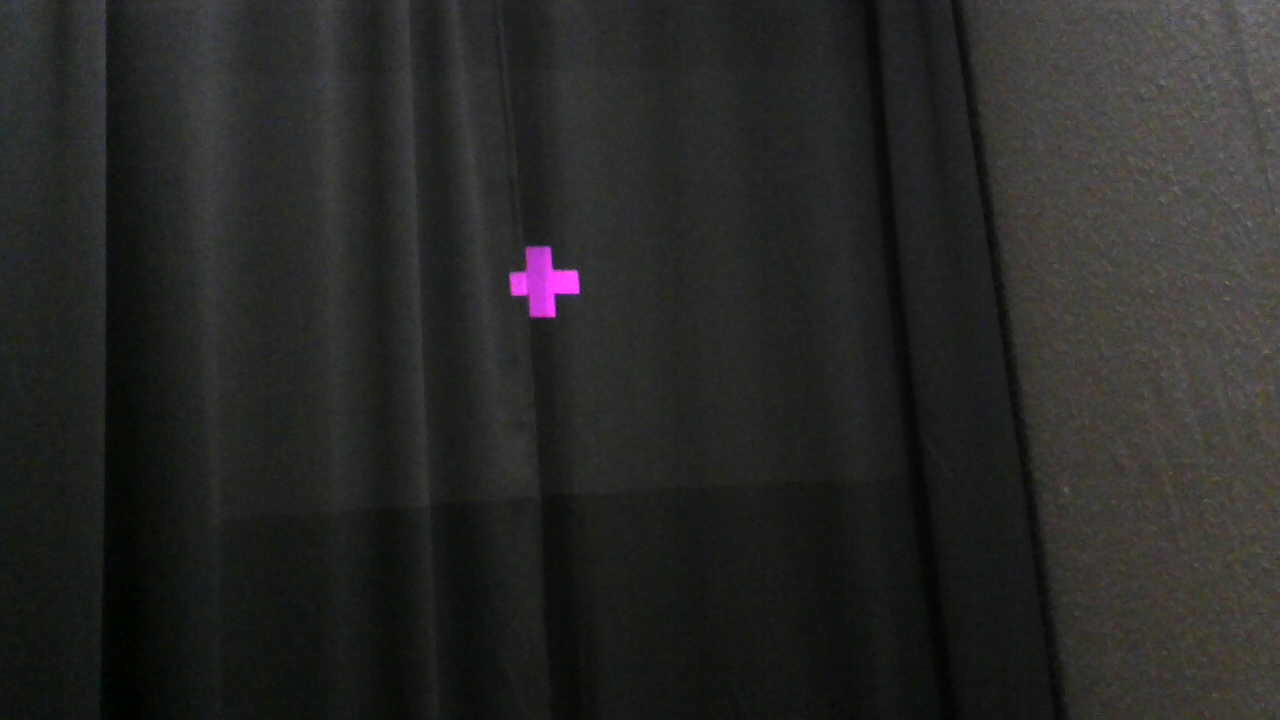calibration_symbol: (507, 245, 582, 318)
